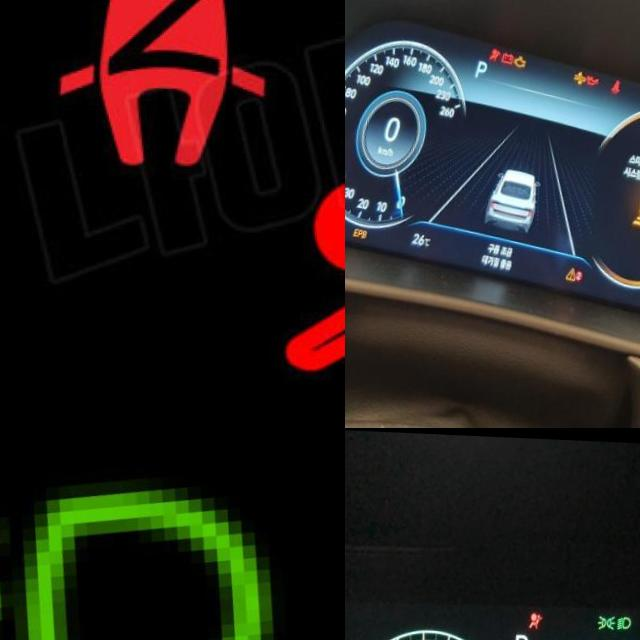Central Warning lamp: (572, 262, 587, 278)
Low beam: (0, 435, 295, 640), (619, 611, 634, 627)
SideLamp: (598, 610, 619, 628)
